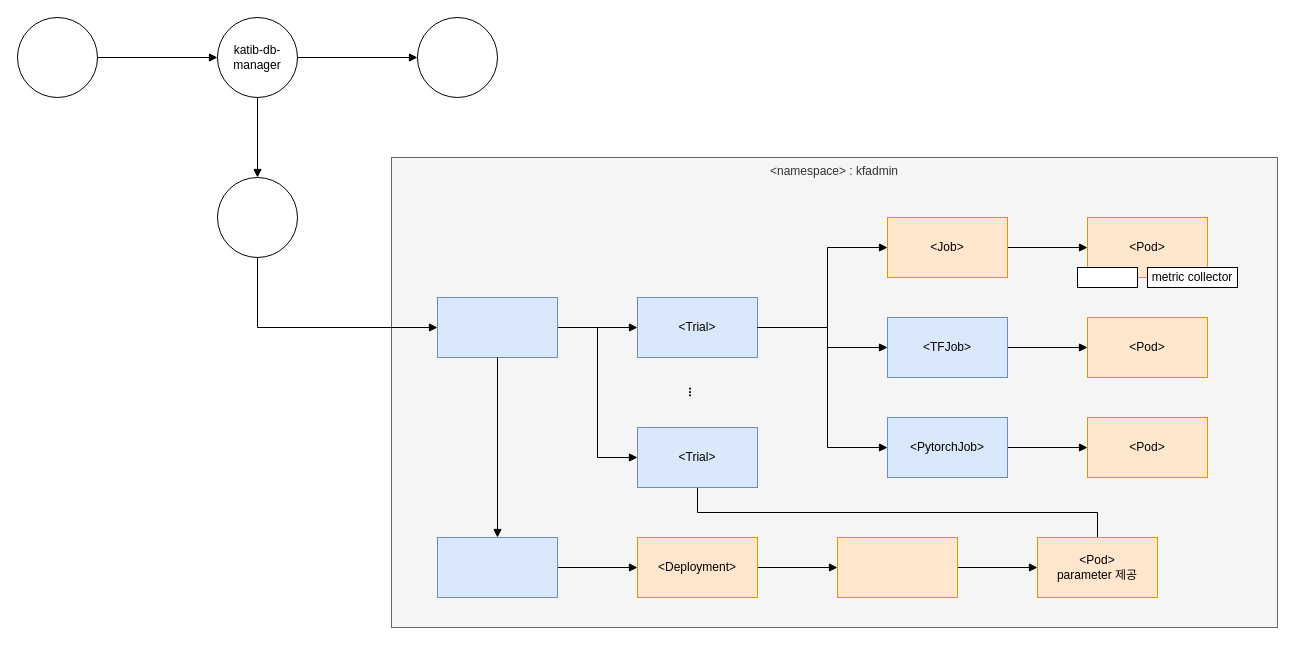
Image size: 1295x645. Some labels were removed from this diagram. The shapes that lost their labels are listed below. From the top down, each one's centre as x and y in pixels, then its label:
[57,57]: katib-ui
[457,57]: katib-mysql
[257,217]: katib-controller
[1107,277]: worker job
[497,327]: <Experiment>
[497,567]: <Suggestion>
[897,567]: <ReplicaSet>
